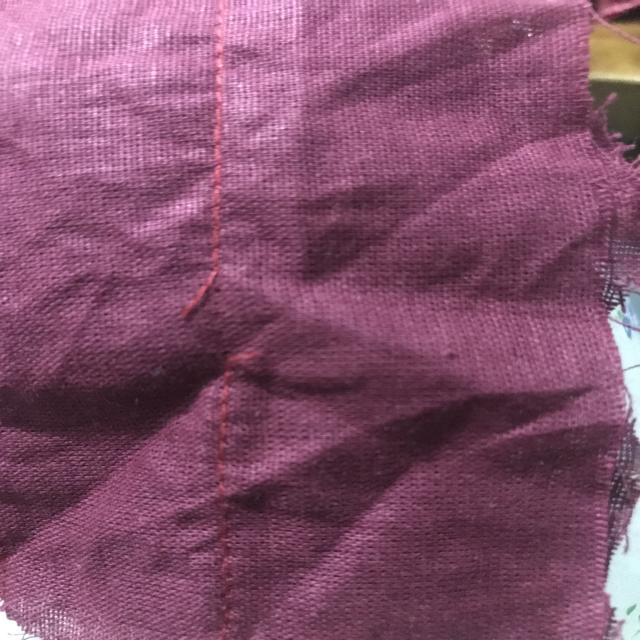broken: (162, 263, 273, 388)
good: (206, 409, 253, 527)
